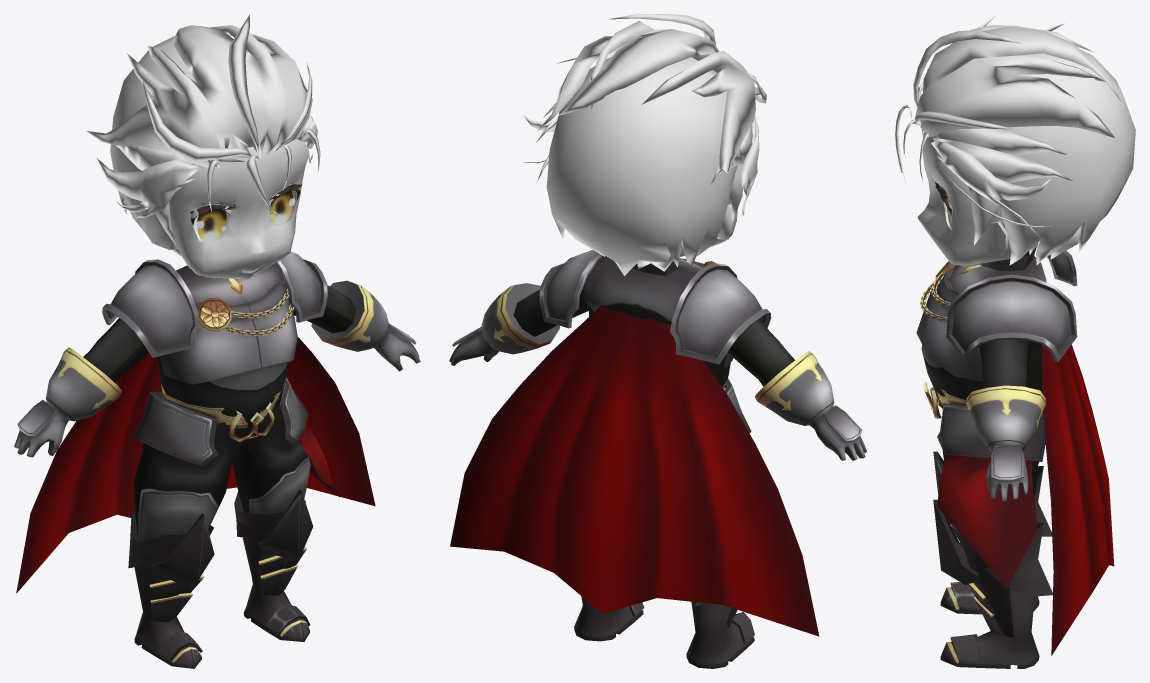
File: zhanshi.FBX
3 views of the same model, side by side, from view 1: azimuth 30°, elevation 25°; view 2: azimuth 150°, elevation 25°; view 3: azimuth 270°, elevation 25° (orthographic). The views are drawn at different scales.
Parts seen in each view (by area): view 1: zhanshi_shangyi, zhanshi_toufa, zhanshi_pifeng, zhanshi_xie, zhanshi_xiashen, zhanshi_lian, zhanshi_yanjing; view 2: zhanshi_pifeng, zhanshi_toufa, zhanshi_shangyi, zhanshi_xie; view 3: zhanshi_toufa, zhanshi_shangyi, zhanshi_pifeng, zhanshi_xie, zhanshi_xiashen, zhanshi_lian.
Boxes of the visible parts, x1=… form: zhanshi_shangyi: x1=14, y1=252, x2=420, y2=466; zhanshi_toufa: x1=87, y1=14, x2=320, y2=256; zhanshi_pifeng: x1=16, y1=337, x2=375, y2=593; zhanshi_xie: x1=128, y1=489, x2=313, y2=668; zhanshi_xiashen: x1=134, y1=389, x2=339, y2=543; zhanshi_lian: x1=145, y1=139, x2=308, y2=279; zhanshi_yanjing: x1=196, y1=190, x2=295, y2=241; zhanshi_pifeng: x1=450, y1=305, x2=819, y2=636; zhanshi_toufa: x1=523, y1=14, x2=766, y2=275; zhanshi_shangyi: x1=449, y1=250, x2=866, y2=460; zhanshi_xie: x1=574, y1=596, x2=754, y2=668; zhanshi_toufa: x1=895, y1=15, x2=1135, y2=265; zhanshi_shangyi: x1=916, y1=247, x2=1077, y2=501; zhanshi_pifeng: x1=1042, y1=344, x2=1114, y2=655; zhanshi_xie: x1=933, y1=451, x2=1052, y2=668; zhanshi_xiashen: x1=937, y1=387, x2=1043, y2=588; zhanshi_lian: x1=917, y1=131, x2=1010, y2=265.
Bounding box in the file's own units: 74.43 × 107 × 38.29.
Materials: 6 (6 with a texture image).
